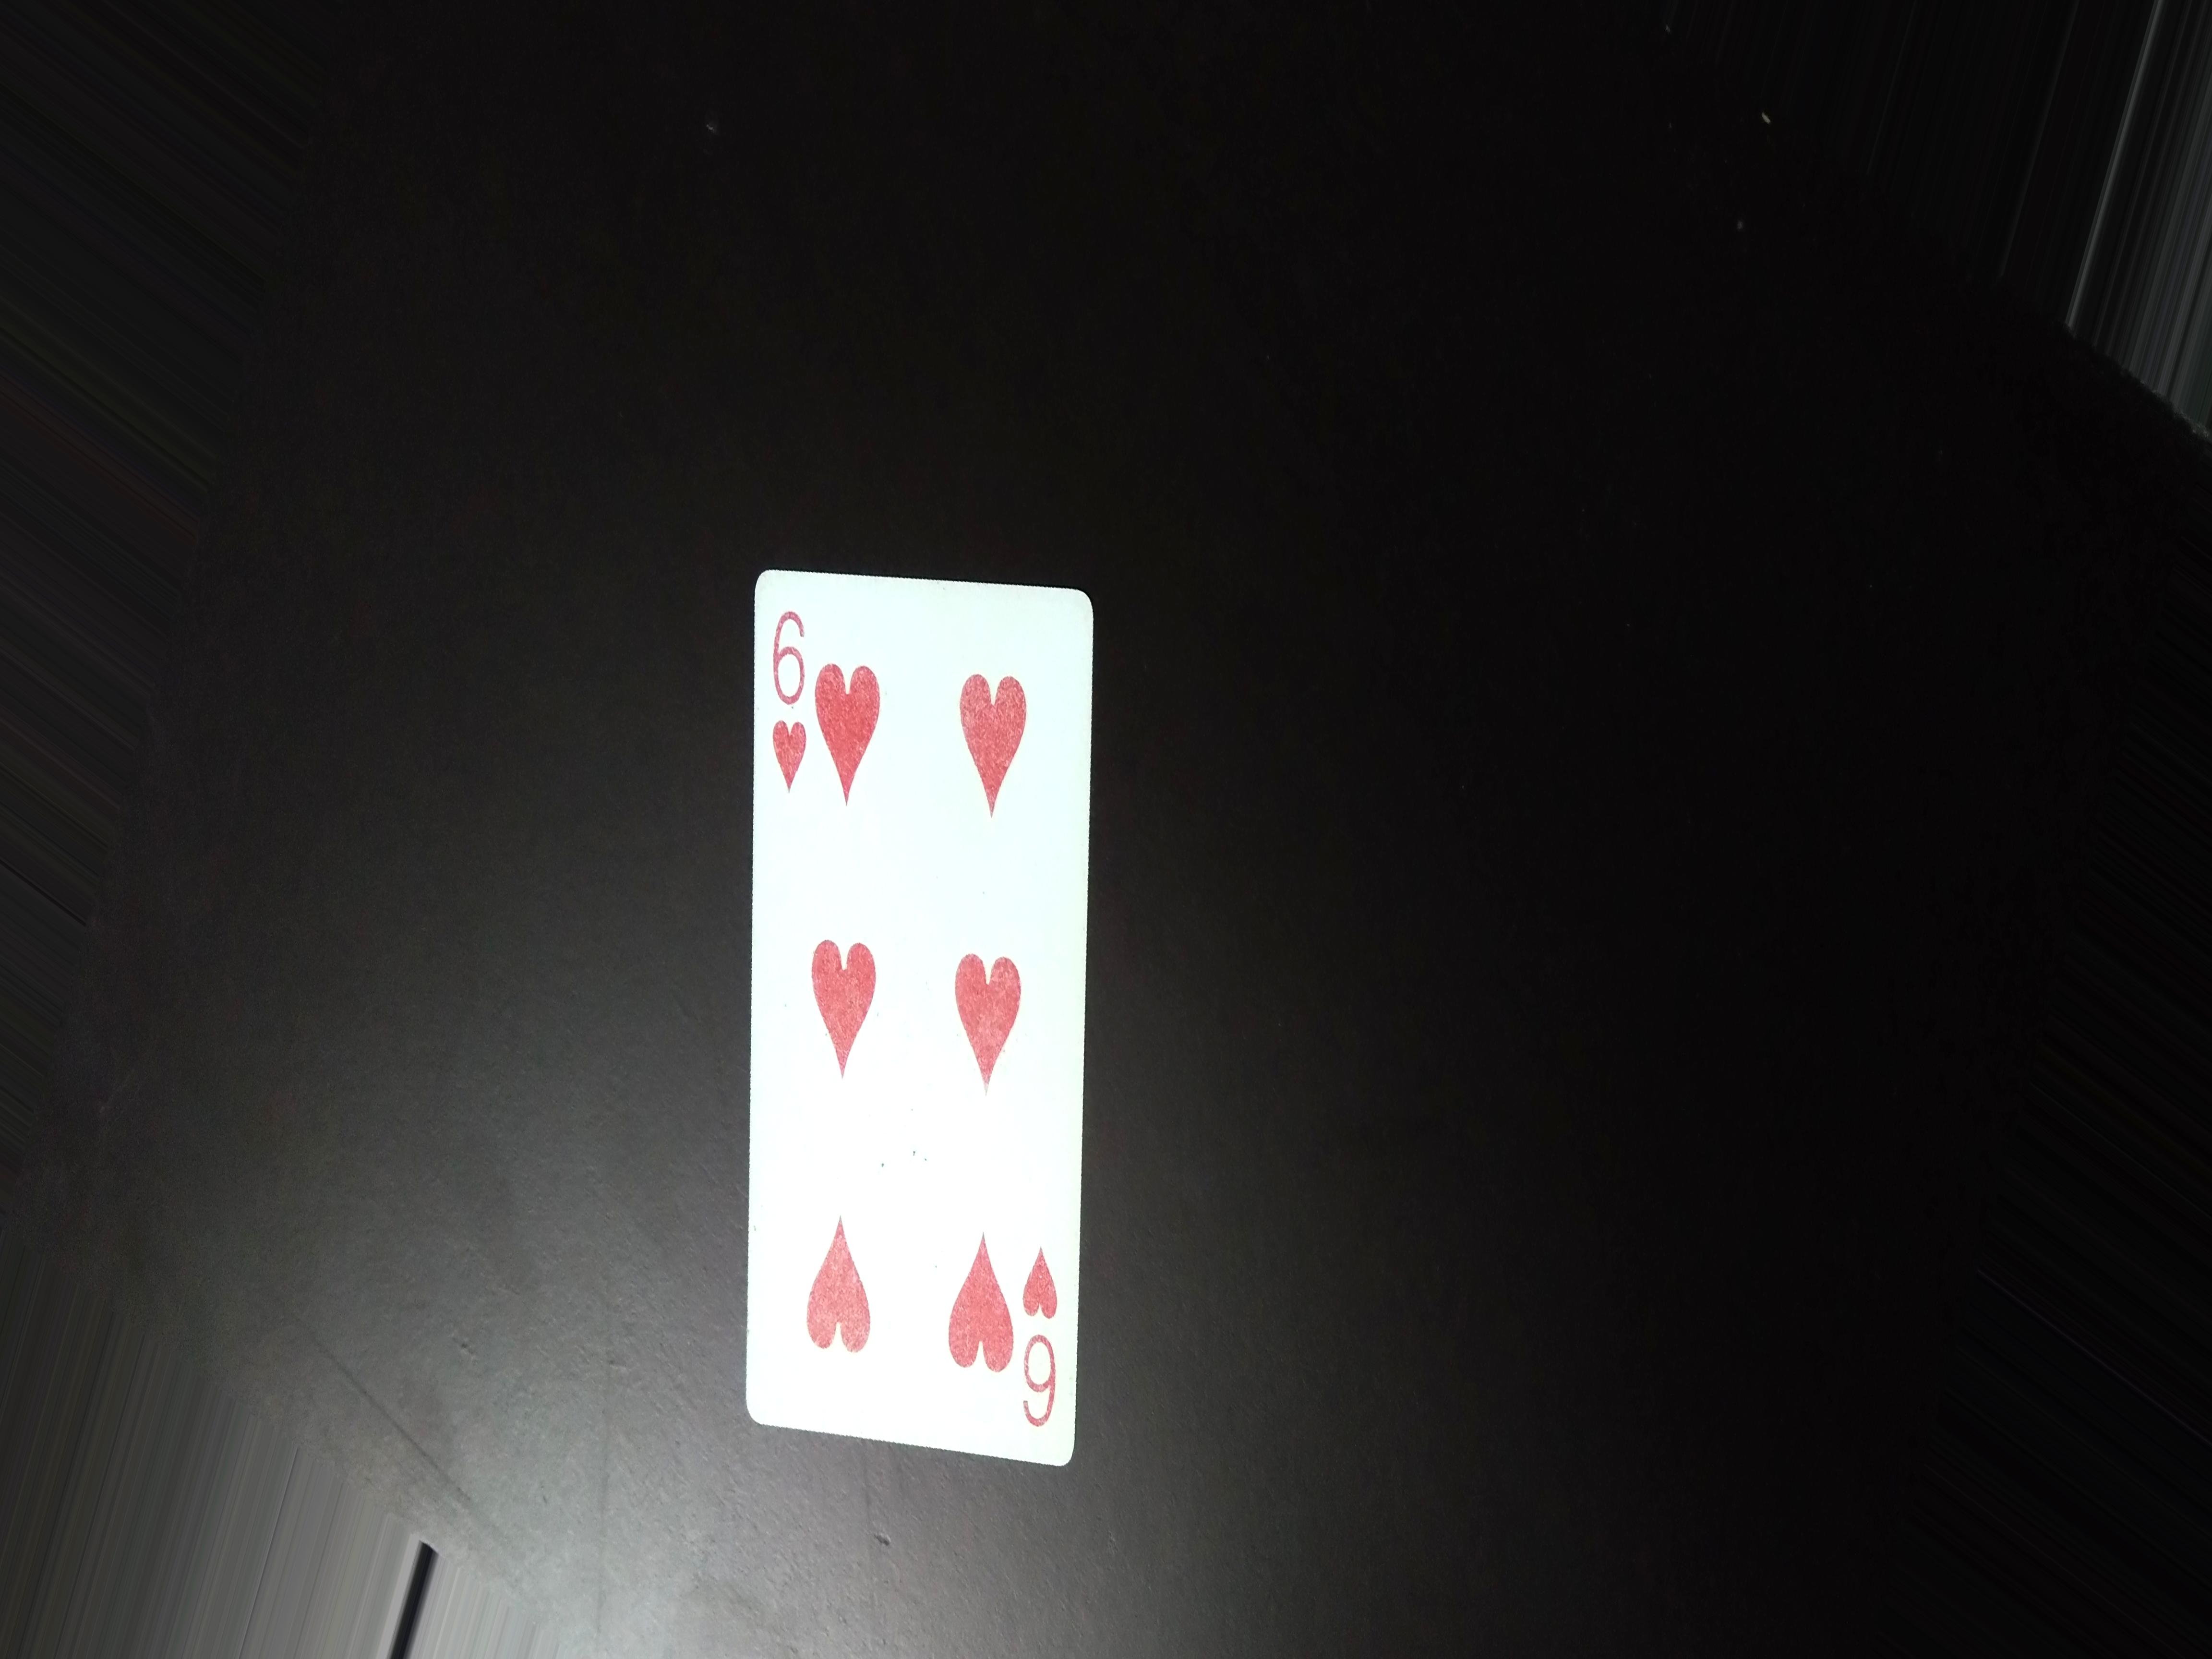6H: (761, 579, 815, 809)
